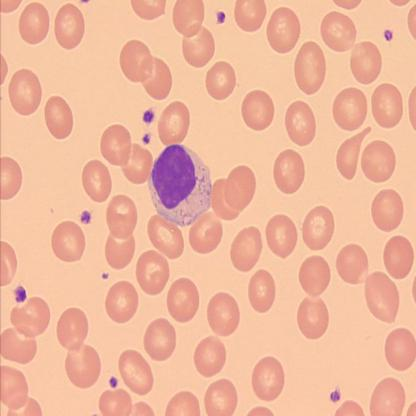Lymphocyte: (147, 143, 212, 228)
